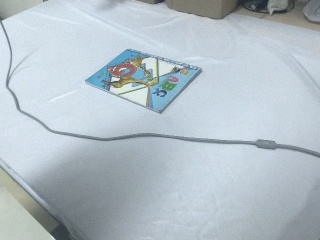book: (82, 46, 204, 116)
box: (164, 1, 243, 20)
